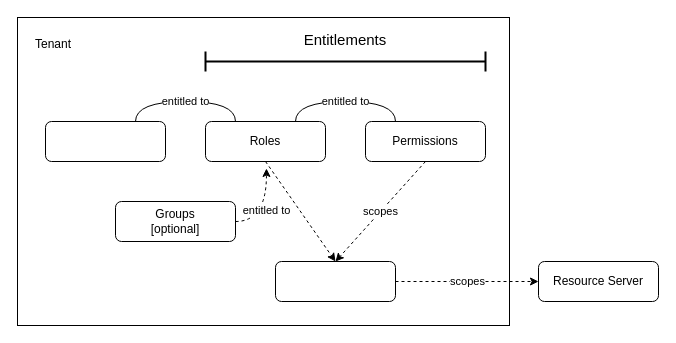
Image size: 676x343. Some labels were removed from this diagram. Each missing label, with the centre of its shape:
"Client App" goes at point 335,281.
"Personas" goes at point 105,141.
